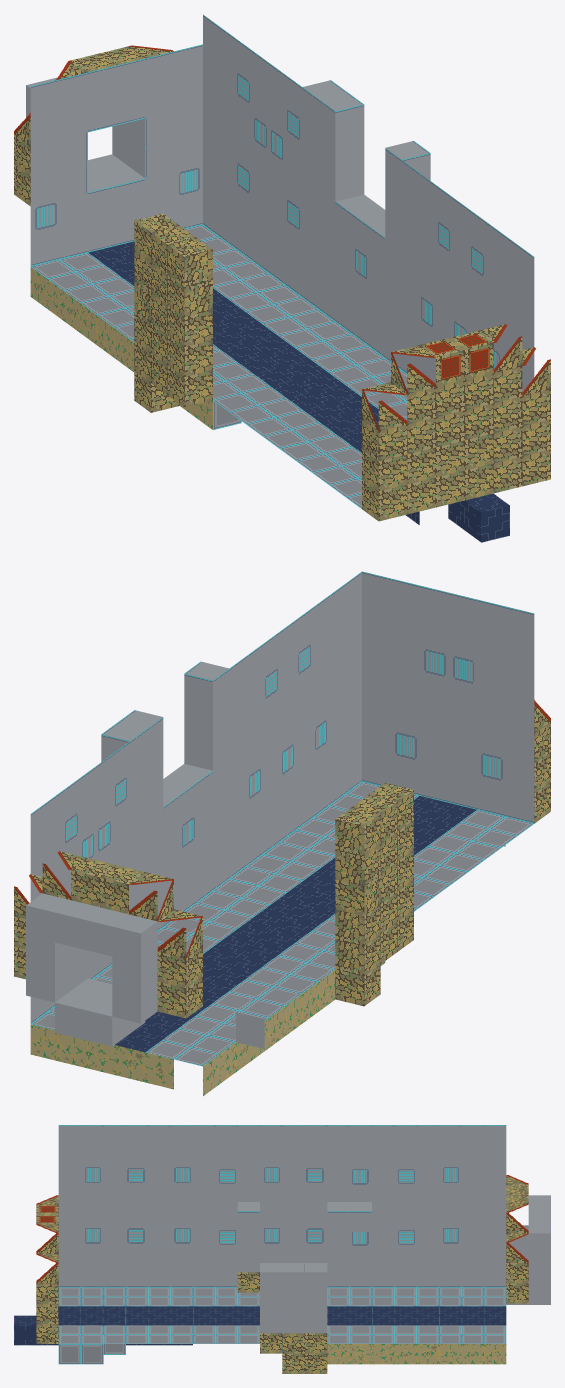
The model's file is NewWorld1.gltf.
3 renders of one model, top to bottom at view 1: azimuth 30°, elevation 25°; view 2: azimuth 150°, elevation 25°; view 3: azimuth 270°, elevation 25°, orthographic. The views are drawn at different scales.
Size of the model in its own units: 16 by 18 by 48.
1 material, 1 textured.
